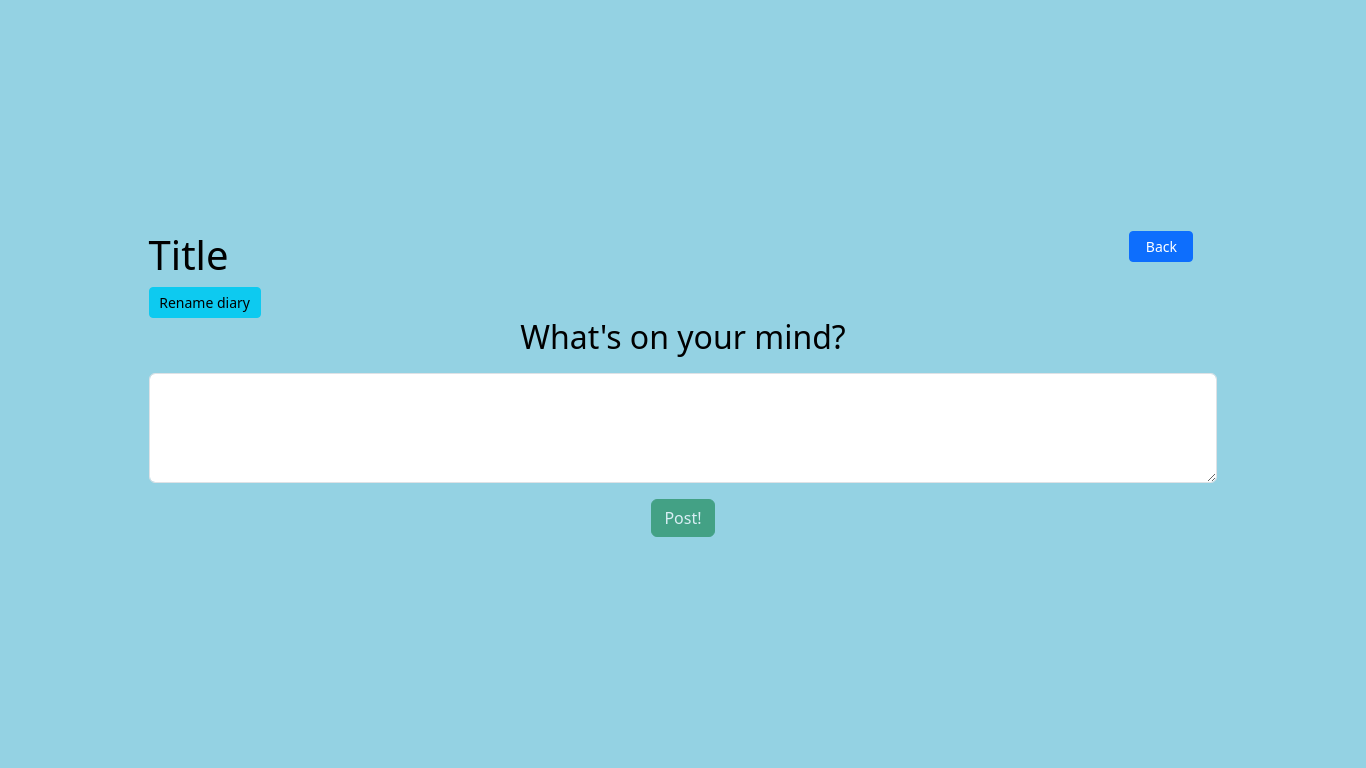
Test: DiaryComponent › Clicking the "Rename diary" button and saving the changes should update the diary title
This screenshot has width=1366, height=768.
Click the button "Rename diary".
click(205, 303)  # box [149, 287, 261, 318]
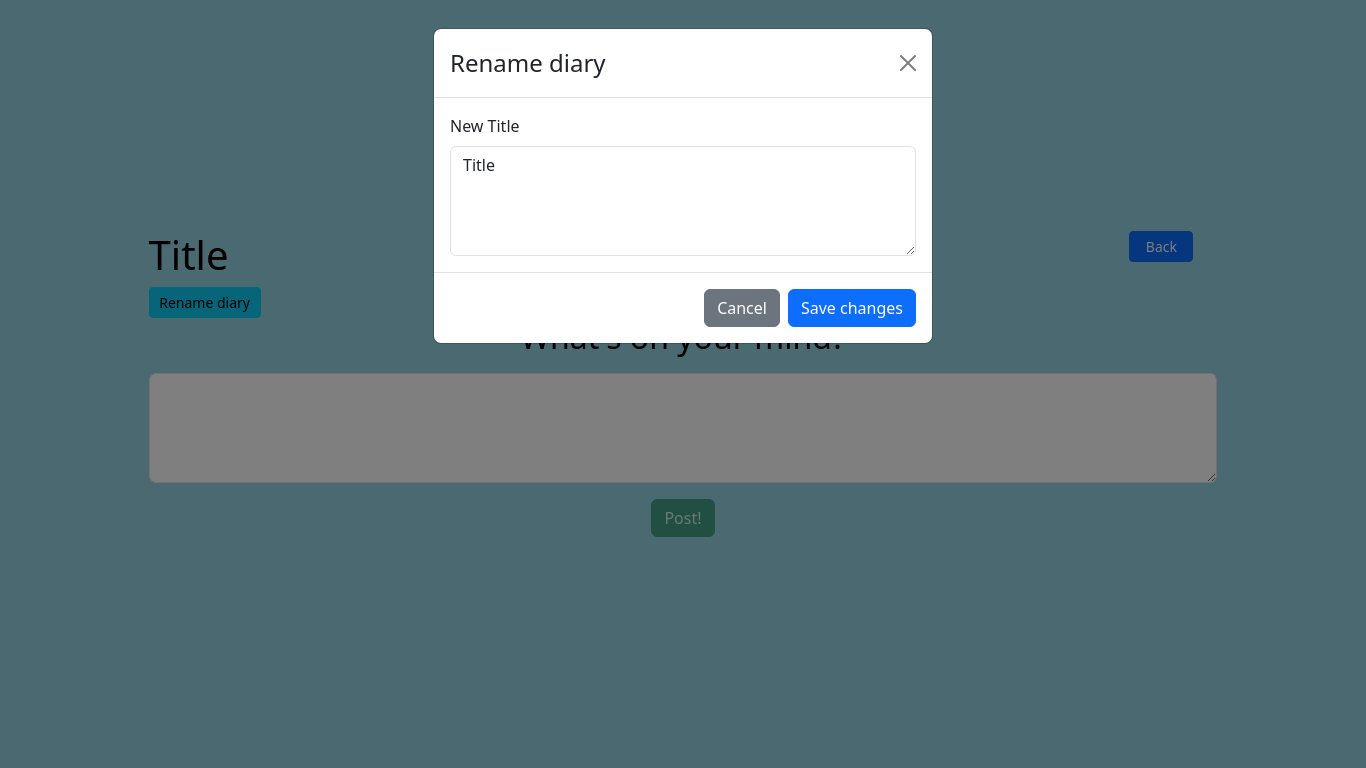
Replace the text in the text box labelled "New Title" with "New title" at (683, 201), box [450, 146, 916, 256]
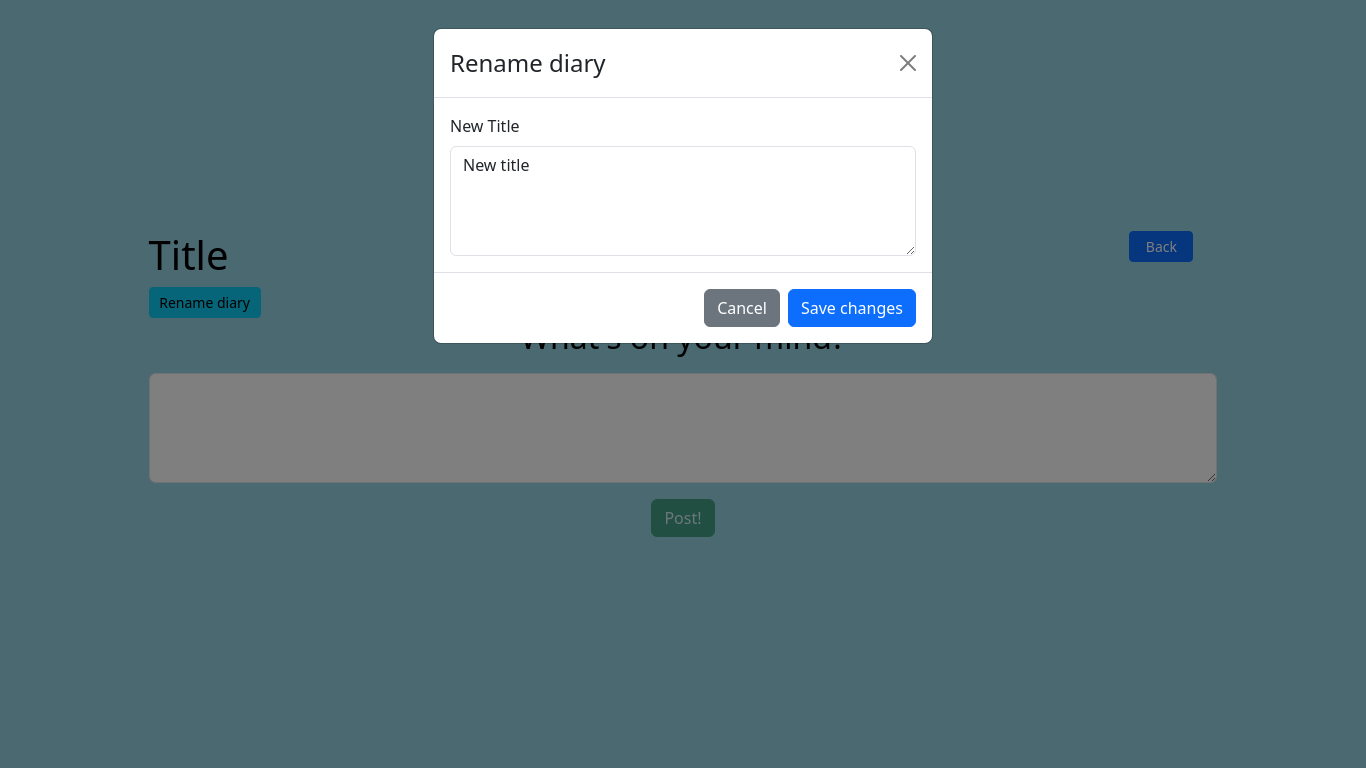
Click the button "Save changes".
click(852, 308)  # box [788, 289, 916, 327]
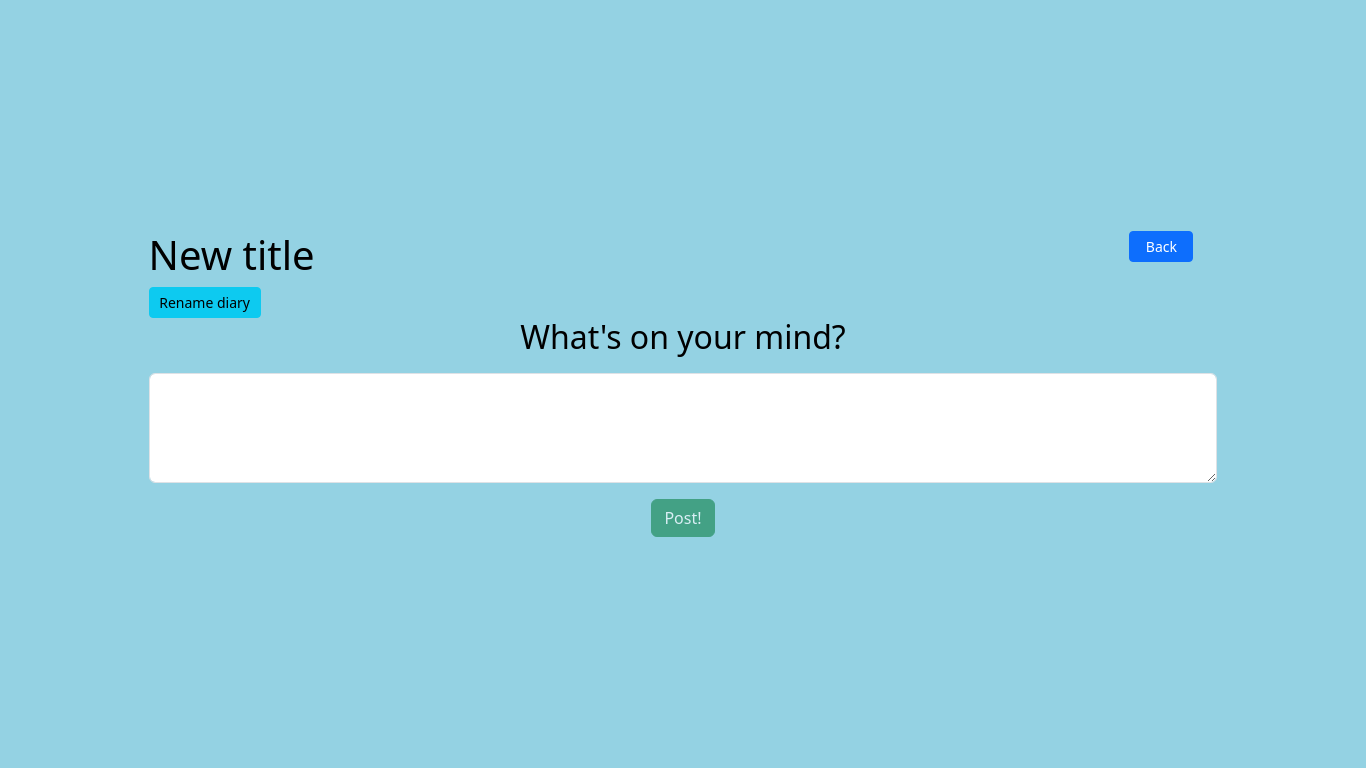
Expected: the heading "New title" is shown, [149, 227, 315, 282]
